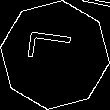L_E: (28, 36, 82, 74)
